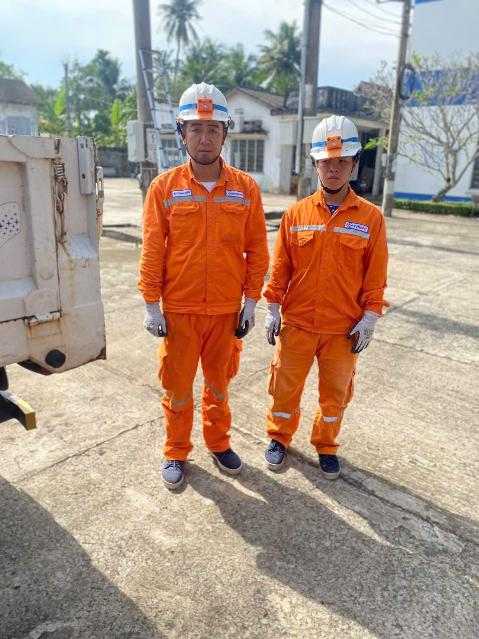gloves: (137, 297, 184, 356), (346, 301, 385, 351), (236, 291, 261, 341), (264, 303, 283, 344)
helmet: (303, 104, 368, 166), (171, 83, 239, 130)
shoes: (155, 445, 193, 488), (313, 431, 344, 482), (206, 440, 245, 477), (253, 431, 290, 469)
